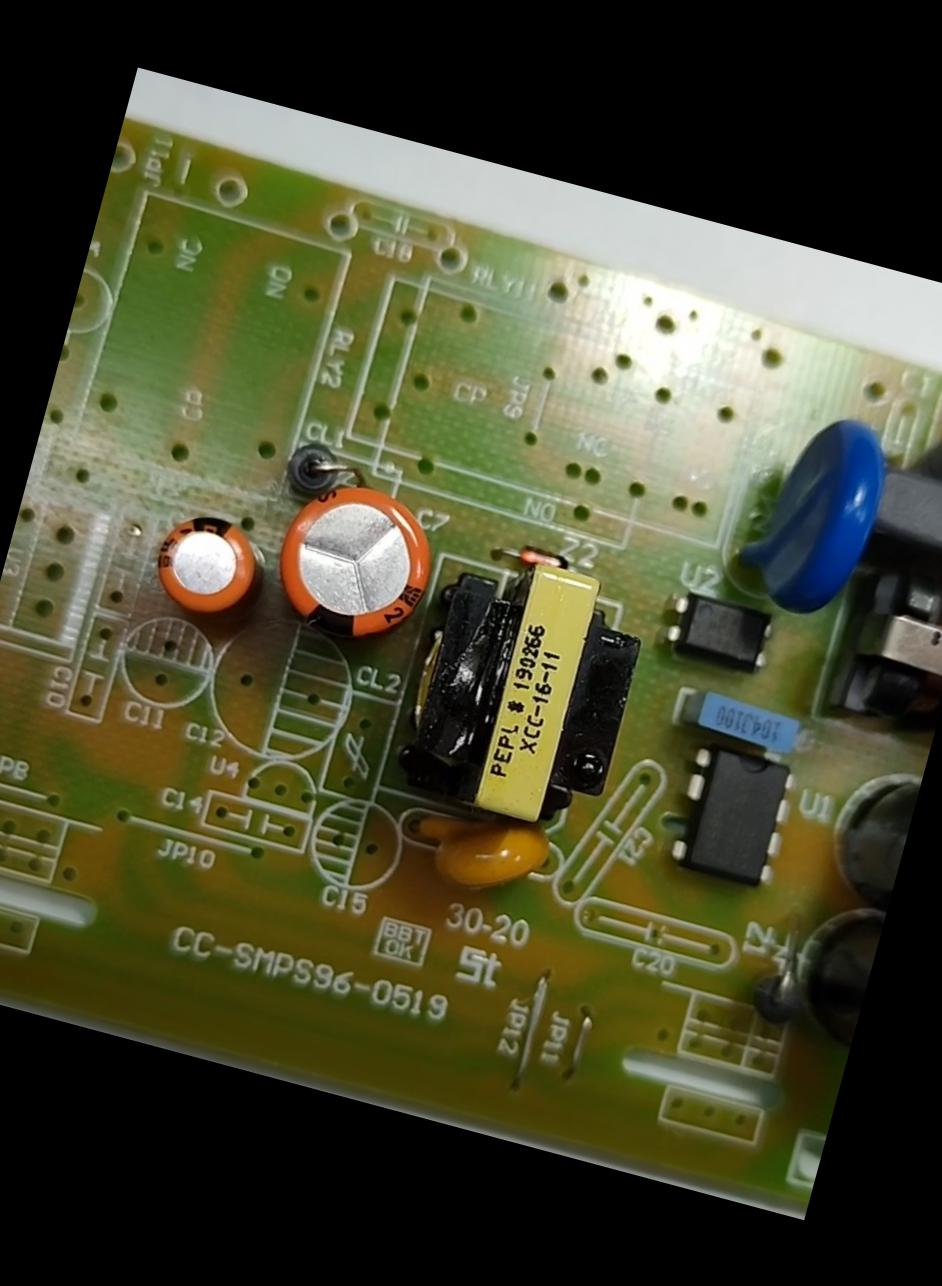Cap1: (250, 456, 462, 666)
Cap2: (137, 496, 283, 640)
Cap3: (826, 733, 931, 916)
Cap4: (775, 882, 890, 1065)
MOSFET: (653, 726, 820, 908)
Mov: (710, 388, 910, 645)
Resistor: (897, 379, 942, 517)
Transformer: (373, 524, 674, 848), (804, 536, 942, 755)
